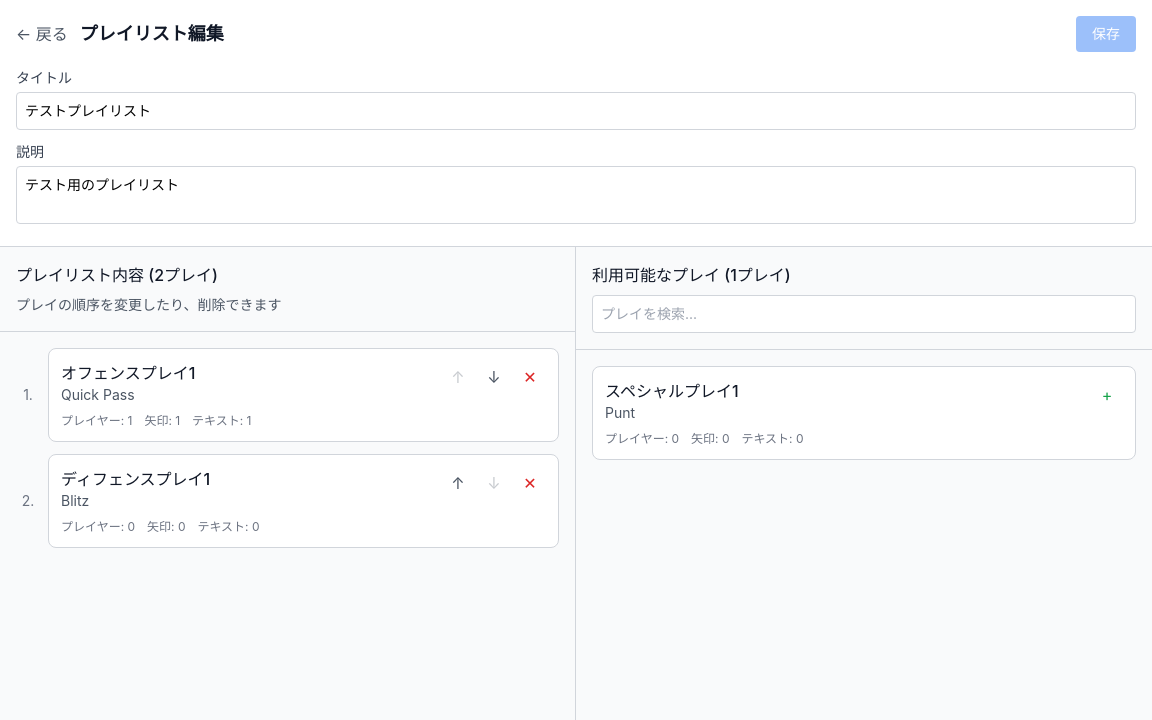
it: PlaylistEditor › プレイリストにプレイを追加できること
# 追加ボタンをクリック
Click the button titled "プレイリストに追加" at coordinates (1107, 395), box x1=1091 y1=379 x2=1123 y2=411
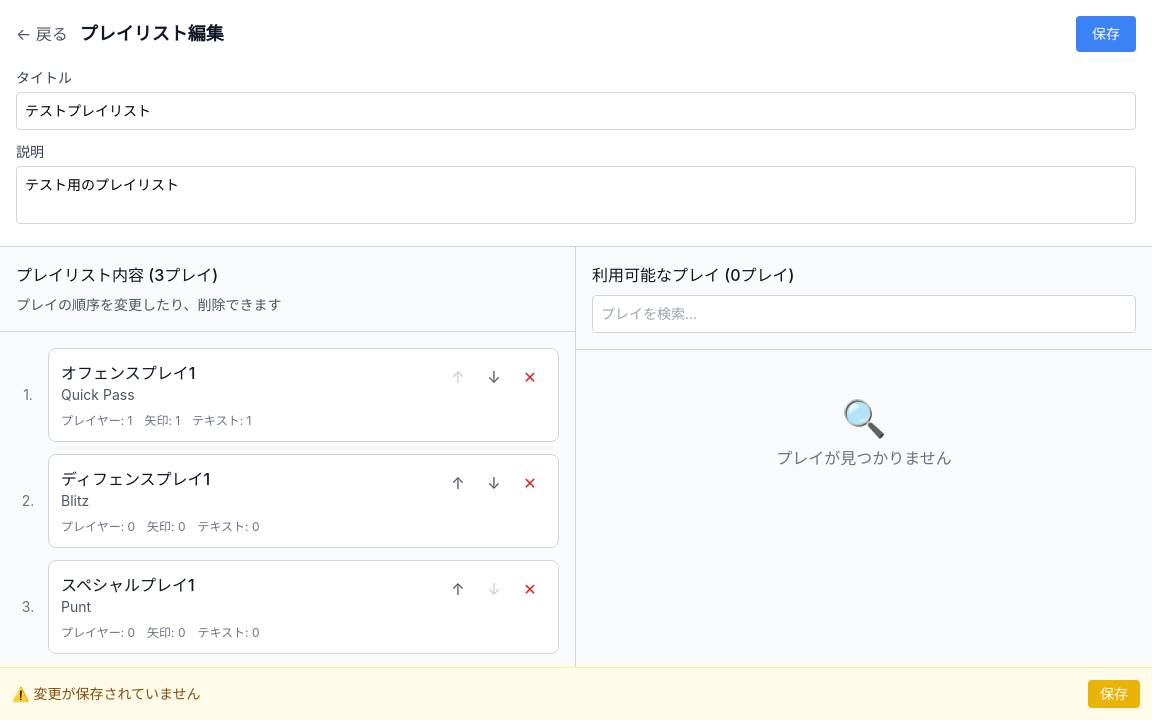
expect the heading "プレイリスト内容 (3プレイ)" is shown: met, box x1=16 y1=265 x2=218 y2=285
expect the heading "利用可能なプレイ (0プレイ)" is shown: met, box x1=592 y1=265 x2=794 y2=285
